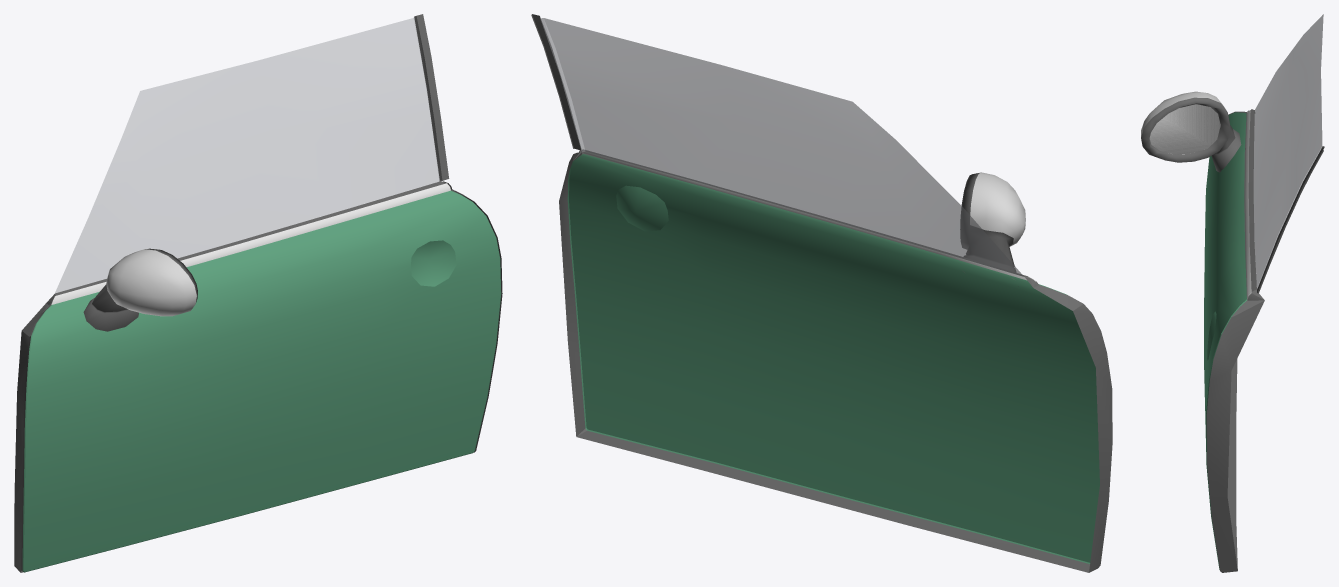
The model's file is car-door.dae.
The picture shows the model from 3 angles, left to right: view 1: azimuth 30°, elevation 25°; view 2: azimuth 150°, elevation 25°; view 3: azimuth 270°, elevation 25°; orthographic projection. The views are drawn at different scales.
Parts seen in each view (by area): view 1: SketchUp.424, SketchUp.430; view 2: SketchUp.424, SketchUp.430; view 3: SketchUp.424, SketchUp.430.
Part boxes in pixels (x1,y1,x2,y2): SketchUp.424: (14, 14, 502, 572); SketchUp.430: (54, 180, 445, 295); SketchUp.424: (531, 14, 1112, 572); SketchUp.430: (582, 149, 1027, 277); SketchUp.424: (1141, 14, 1324, 572); SketchUp.430: (1248, 110, 1257, 292).
Bounding box in the file's own units: 1.34 × 0.4266 × 1.11.
7 materials, 1 textured.
